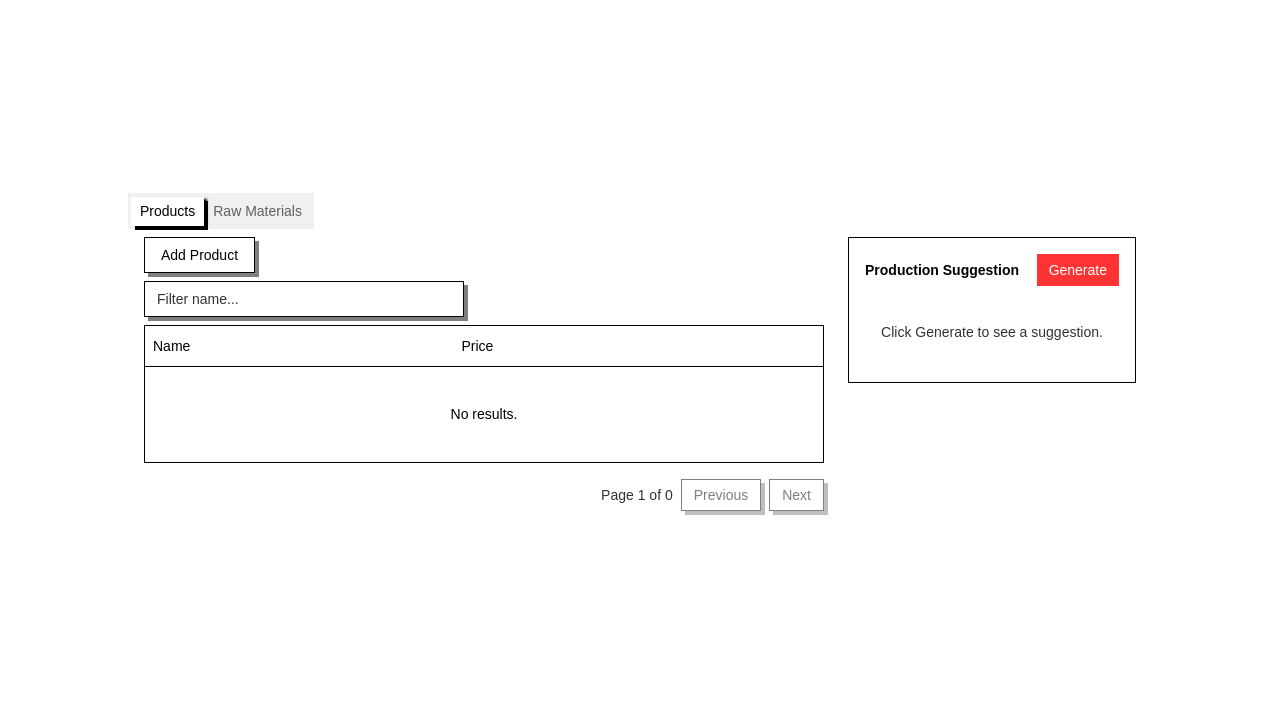
Test case: Create Product › should show error when name is empty
This screenshot has width=1280, height=720.
Click the tab "Products". click: [168, 212]
box: [131,197,204,226]
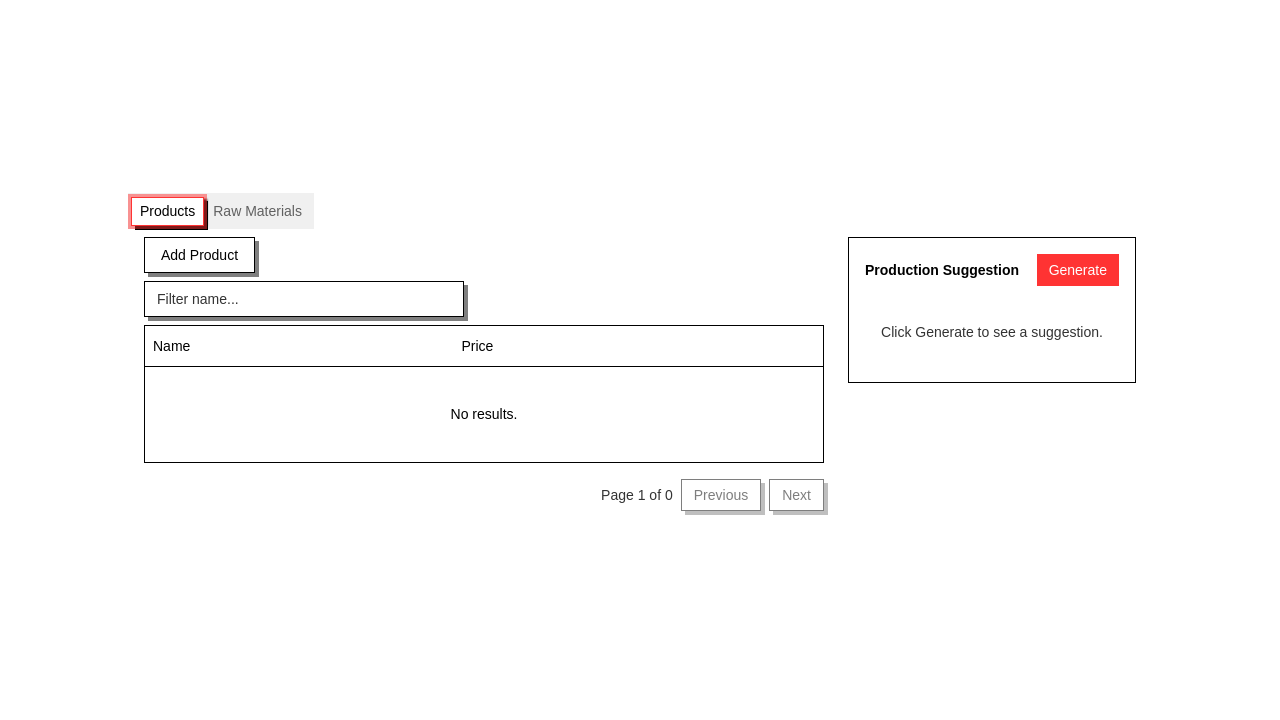
Click the button with id "AddProduct". click: [200, 255]
box: [144,237,255,273]
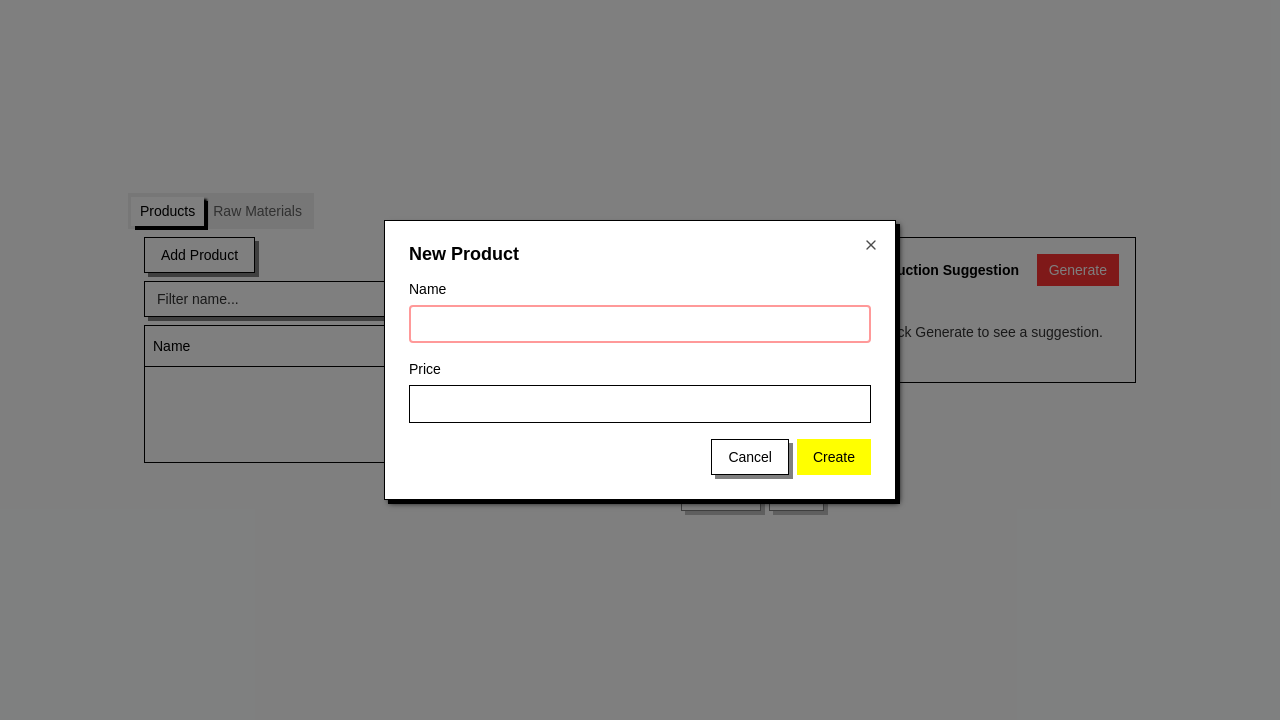
Type "10" into the number field labelled "Price". click: [640, 404]
box: [409,385,871,423]
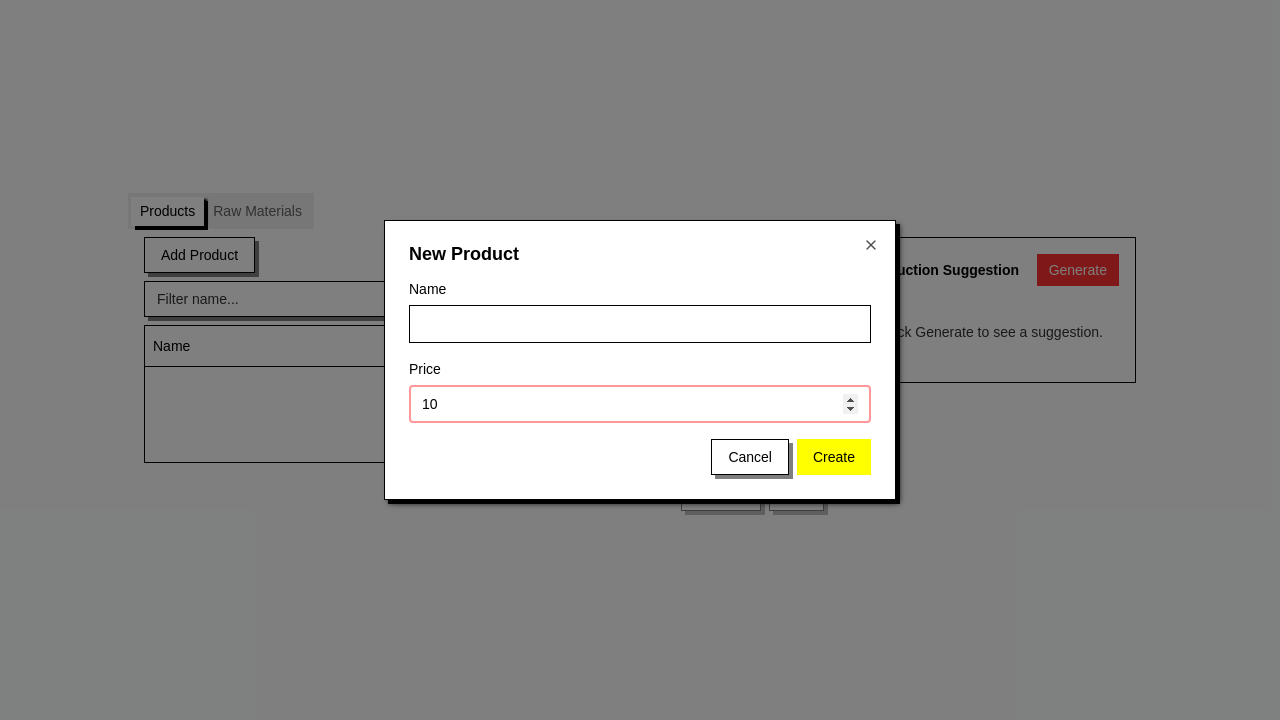
Click the button with id "btnSubmit". click: [834, 457]
box: [797,439,871,475]
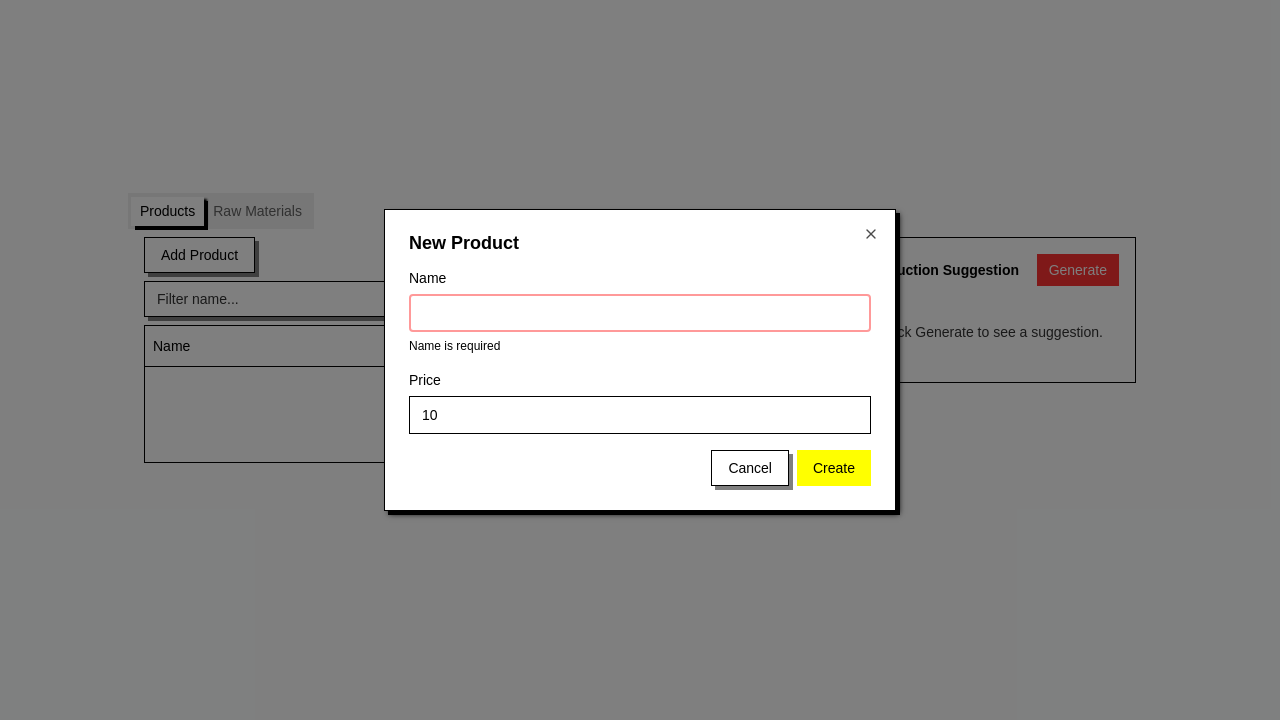
Result: the text "Name is required" is shown at [409,339,500,353]
